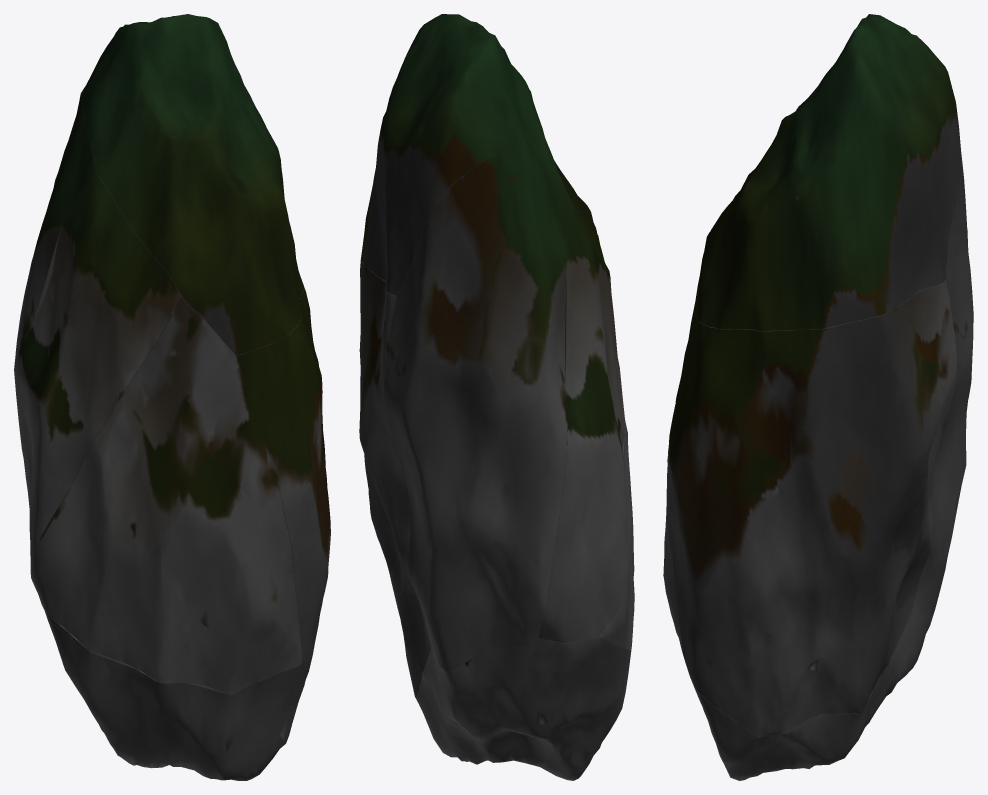
The model's file is island_piece_4.fbx.
The picture shows the model from 3 angles, left to right: view 1: azimuth 30°, elevation 25°; view 2: azimuth 150°, elevation 25°; view 3: azimuth 270°, elevation 25°; orthographic projection. The views are drawn at different scales.
Visible parts, largest first — view 1: rock_cell.007, rock_cell.002, rock_cell.008, rock_cell.004, rock_cell, rock_cell.011; view 2: rock_cell.011, rock_cell.002, rock_cell.008, rock_cell.004, rock_cell, rock_cell.007; view 3: rock_cell, rock_cell.002, rock_cell.004, rock_cell.011, rock_cell.007.
Boxes of the visible parts, x1,y1,x2,y2 form: rock_cell.007: (30,299,302,694); rock_cell.002: (81,14,304,355); rock_cell.008: (15,174,182,562); rock_cell.004: (38,594,305,780); rock_cell: (236,261,330,679); rock_cell.011: (14,93,96,425); rock_cell.011: (384,156,567,671); rock_cell.002: (361,14,590,295); rock_cell.008: (538,182,629,642); rock_cell.004: (416,637,631,780); rock_cell: (359,259,430,697); rock_cell.007: (599,366,634,649); rock_cell: (666,279,957,737); rock_cell.002: (694,14,961,331); rock_cell.004: (685,613,933,780); rock_cell.011: (911,158,973,615); rock_cell.007: (663,341,688,653).
Bounding box in the file's own units: 297 × 821 × 309.
1 material, 1 textured.
